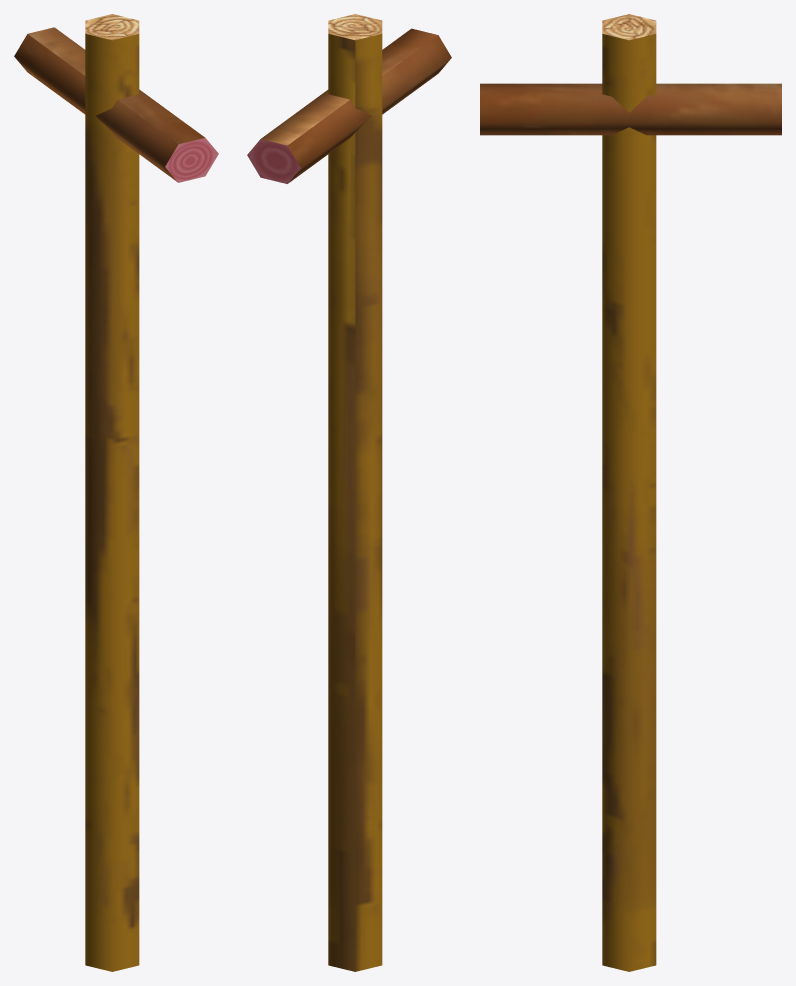
Rendered from thumb.FBX.
3 views of the same model, side by side, from view 1: azimuth 30°, elevation 25°; view 2: azimuth 150°, elevation 25°; view 3: azimuth 270°, elevation 25° (orthographic).
Visible parts, largest first — view 1: Cylinder001; view 2: Cylinder001; view 3: Cylinder001.
Boxes of the visible parts, box(x1,y1,x2,y2) form: Cylinder001: box(14, 14, 218, 971); Cylinder001: box(247, 14, 451, 971); Cylinder001: box(480, 14, 781, 971).
Bounding box in the file's own units: 9.94 × 150 × 44.1.
